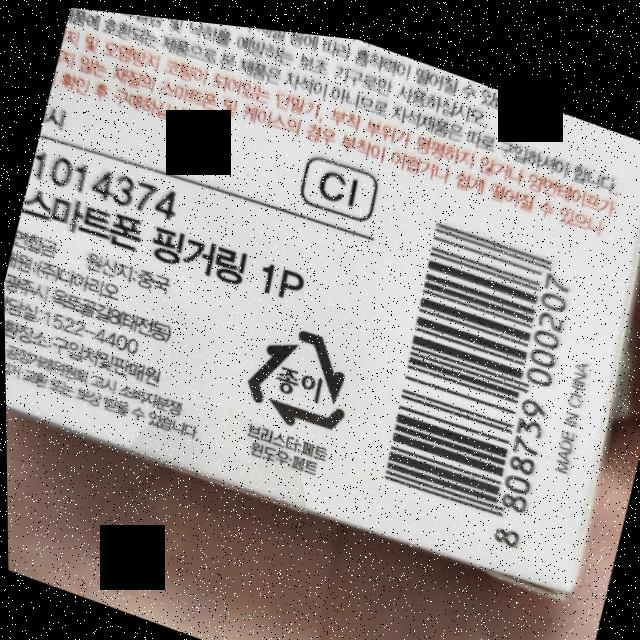Paper: (231, 297, 367, 445)
